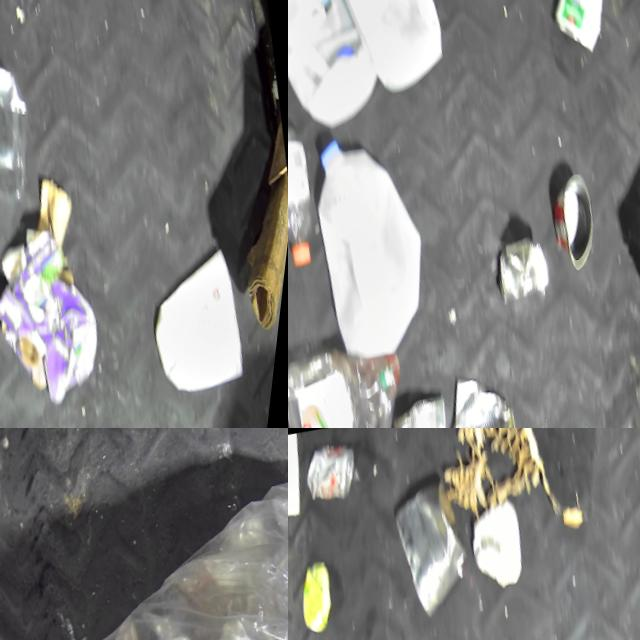can: (379, 468, 490, 623), (541, 152, 619, 273), (438, 361, 548, 428), (492, 225, 568, 310), (299, 437, 366, 508), (388, 383, 475, 428)
milk_jug: (292, 116, 463, 367), (142, 234, 272, 395), (312, 0, 469, 105), (288, 0, 400, 142)
non_white_jug: (288, 326, 440, 428)
plastic_bottle: (288, 114, 343, 273)
